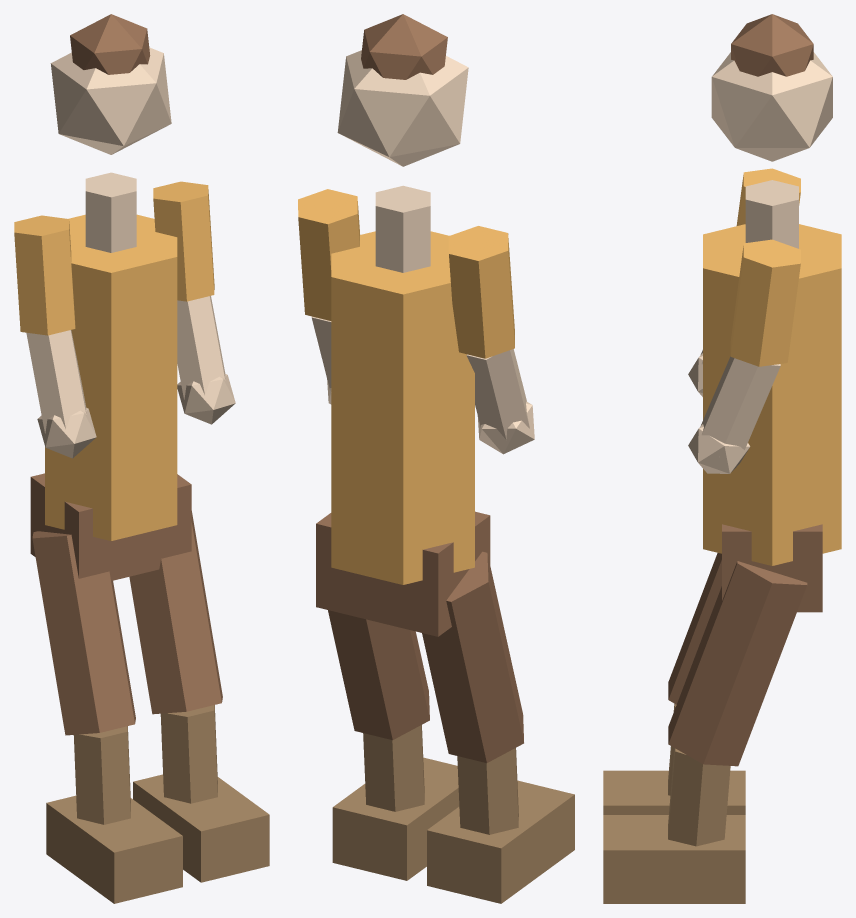
The model's file is pose_hit_light_37.glb.
3 views of the same model, side by side, from view 1: azimuth 30°, elevation 25°; view 2: azimuth 150°, elevation 25°; view 3: azimuth 270°, elevation 25° (orthographic). The views are drawn at different scales.
Parts seen in each view (by area): view 1: pose; view 2: pose; view 3: pose.
Part boxes in pixels (left/top/right/bottom): pose: left=14, top=14, right=269, bottom=903; pose: left=298, top=14, right=574, bottom=903; pose: left=603, top=14, right=841, bottom=903.
Size of the model in its own units: 0.3955 by 1.58 by 0.4019.
